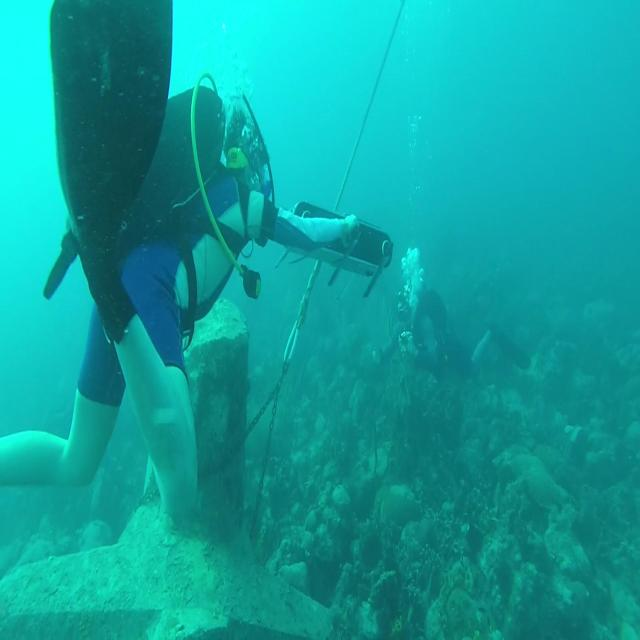human: (5, 10, 321, 560), (385, 247, 534, 384)
